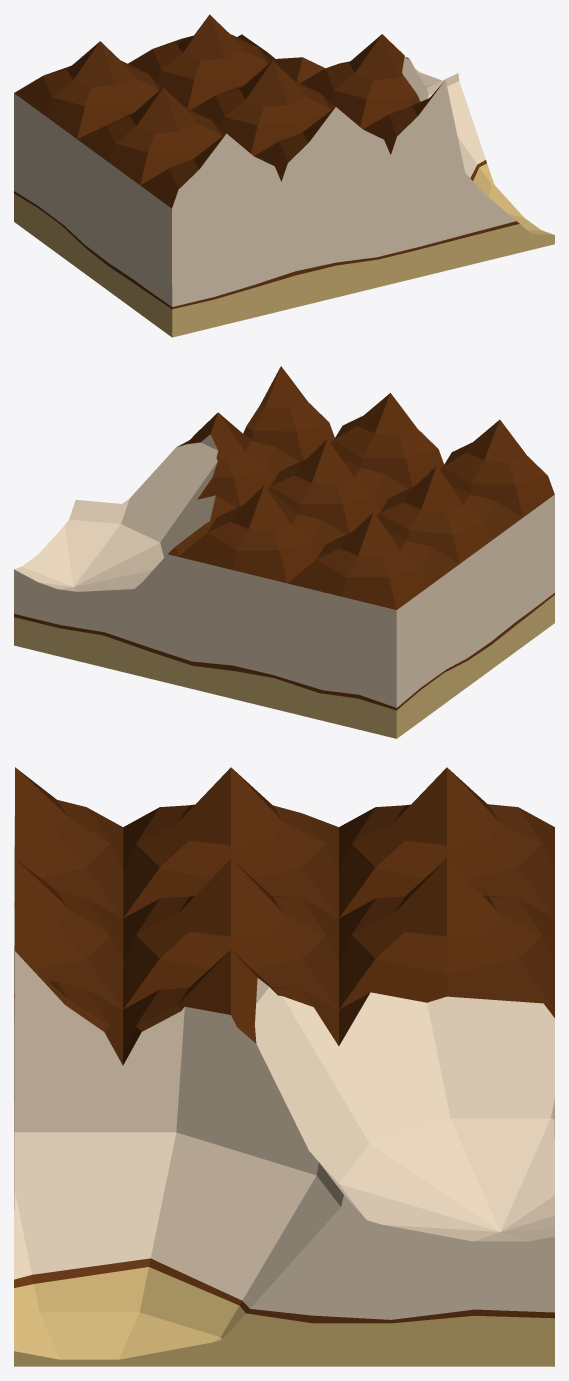
Rendered from TiramisuState2.fbx.
The picture shows the model from 3 angles, top to bottom: view 1: azimuth 30°, elevation 25°; view 2: azimuth 150°, elevation 25°; view 3: azimuth 270°, elevation 25°; orthographic projection. The views are drawn at different scales.
Parts seen in each view (by area): view 1: TiramisuState2; view 2: TiramisuState2; view 3: TiramisuState2.
Boxes of the visible parts, x1,y1,x2,y2 form: TiramisuState2: (14,14,554,337); TiramisuState2: (14,366,554,738); TiramisuState2: (14,767,554,1366).
Bounding box in the file's own units: 93.32 × 44.4 × 66.8.
